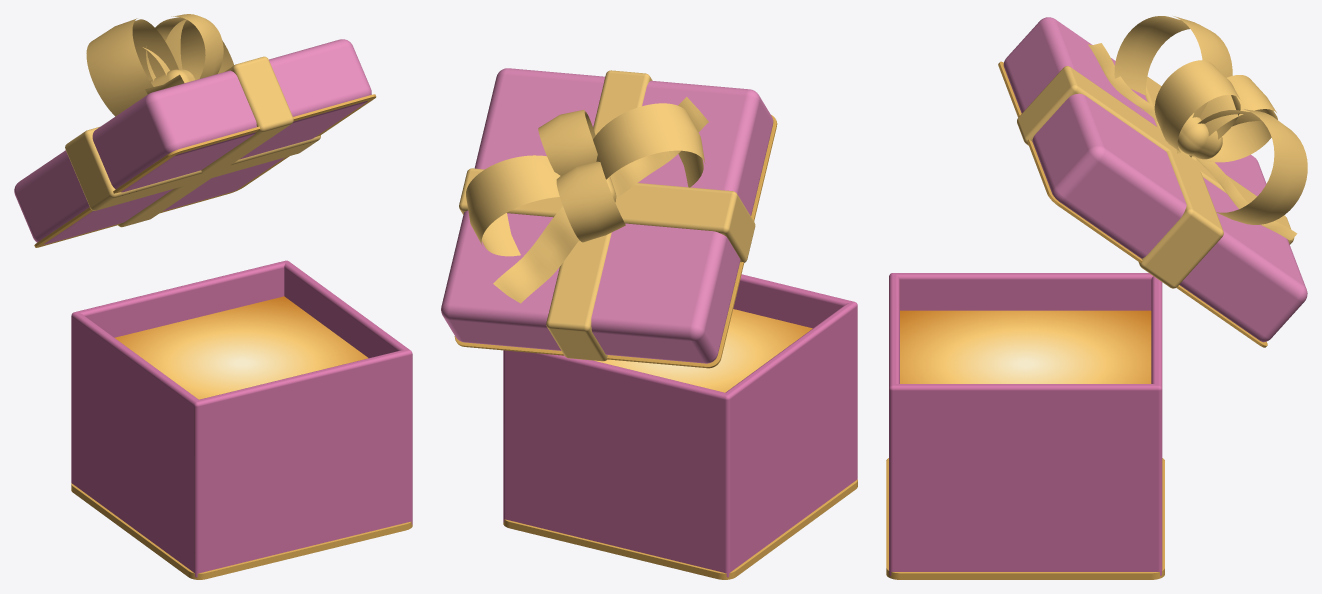
The model's file is special-gift-still.glb.
3 views of the same model, side by side, from view 1: azimuth 30°, elevation 25°; view 2: azimuth 150°, elevation 25°; view 3: azimuth 270°, elevation 25° (orthographic). The views are drawn at different scales.
Parts seen in each view (by area): view 1: wall_x1, lid_box, wall_z-1, inner_glow, wall_x-1, loop_1, lid_band_v, wall_z1, lid_band_h, base_trim, lid_trim, loop_0 (+1 smaller); view 2: lid_box, wall_x-1, wall_z-1, lid_band_v, lid_band_h, loop_0, loop_1, inner_glow, wall_x1, loop_small_0, tail_0, base_trim (+4 smaller); view 3: wall_z1, lid_box, inner_glow, wall_z-1, lid_band_h, loop_0, lid_band_v, loop_1, loop_small_1, loop_small_0, base_trim, wall_x-1 (+5 smaller).
Boxes of the visible parts, left/top/right/bottom form: wall_x1: left=192, top=350, right=412, bottom=577; lid_box: left=14, top=39, right=371, bottom=244; wall_z-1: left=71, top=313, right=201, bottom=577; inner_glow: left=114, top=296, right=368, bottom=399; wall_x-1: left=71, top=260, right=286, bottom=483; loop_1: left=86, top=18, right=178, bottom=116; lid_band_v: left=118, top=56, right=293, bottom=227; wall_z1: left=284, top=260, right=412, bottom=523; lid_band_h: left=65, top=127, right=320, bottom=210; base_trim: left=71, top=483, right=412, bottom=579; lid_trim: left=34, top=94, right=376, bottom=247; loop_0: left=165, top=19, right=233, bottom=79; lid_box: left=441, top=68, right=773, bottom=363; wall_x-1: left=503, top=350, right=731, bottom=577; wall_z-1: left=722, top=302, right=857, bottom=577; lid_band_v: left=546, top=70, right=652, bottom=361; lid_band_h: left=459, top=168, right=755, bottom=262; loop_0: left=466, top=155, right=560, bottom=256; loop_1: left=593, top=103, right=705, bottom=187; inner_glow: left=594, top=309, right=812, bottom=392; wall_x1: left=733, top=274, right=857, bottom=480; loop_small_0: left=556, top=161, right=625, bottom=242; tail_0: left=493, top=206, right=579, bottom=303; base_trim: left=503, top=479, right=857, bottom=579; wall_z1: left=889, top=384, right=1161, bottom=575; lid_box: left=1003, top=17, right=1307, bottom=342; inner_glow: left=900, top=310, right=1151, bottom=383; wall_z-1: left=891, top=273, right=1152, bottom=310; lid_band_h: left=1138, top=76, right=1223, bottom=288; loop_0: left=1176, top=109, right=1307, bottom=224; lid_band_v: left=1017, top=66, right=1294, bottom=244; loop_1: left=1114, top=16, right=1232, bottom=117; loop_small_1: left=1154, top=60, right=1240, bottom=155; loop_small_0: left=1189, top=75, right=1277, bottom=162; base_trim: left=886, top=458, right=1164, bottom=579; wall_x-1: left=1151, top=276, right=1162, bottom=575.
Size of the model in its own units: 0.3746 by 0.5942 by 0.4625.
6 materials, 1 textured.
